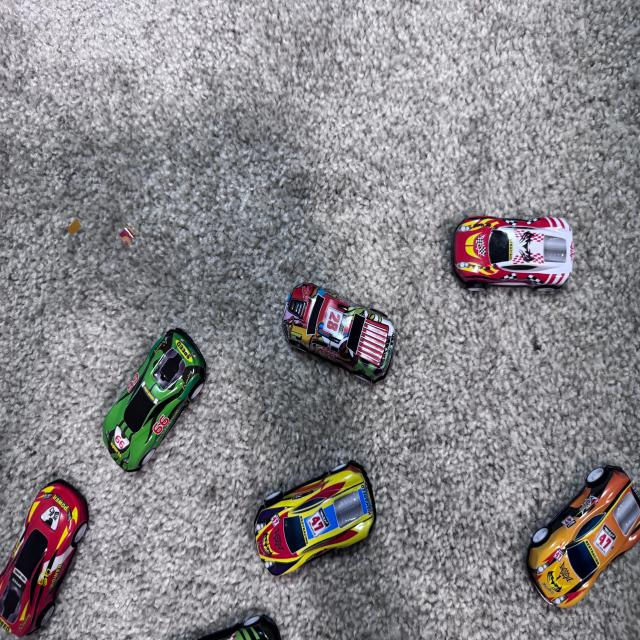Car: (512, 443, 636, 614), (264, 267, 422, 401), (430, 203, 589, 306), (0, 481, 102, 637), (251, 447, 375, 571), (96, 332, 204, 469)
